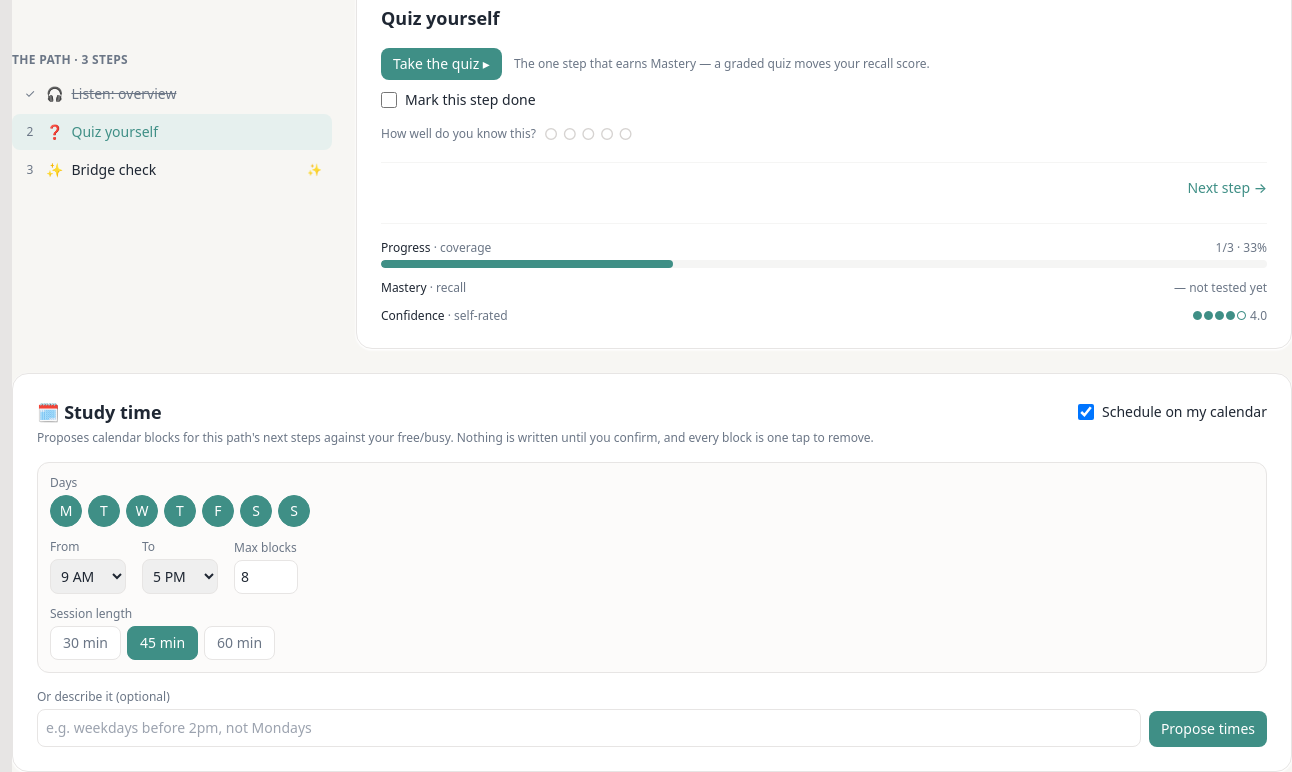
PathPlayer — Study Scheduler controls (v1) › flags a booked window and books over it on request
The image size is (1292, 772).
(page scrolled)
Click the button "Propose times": (1208, 729) x1=1149 y1=711 x2=1267 y2=747
(page scrolled)
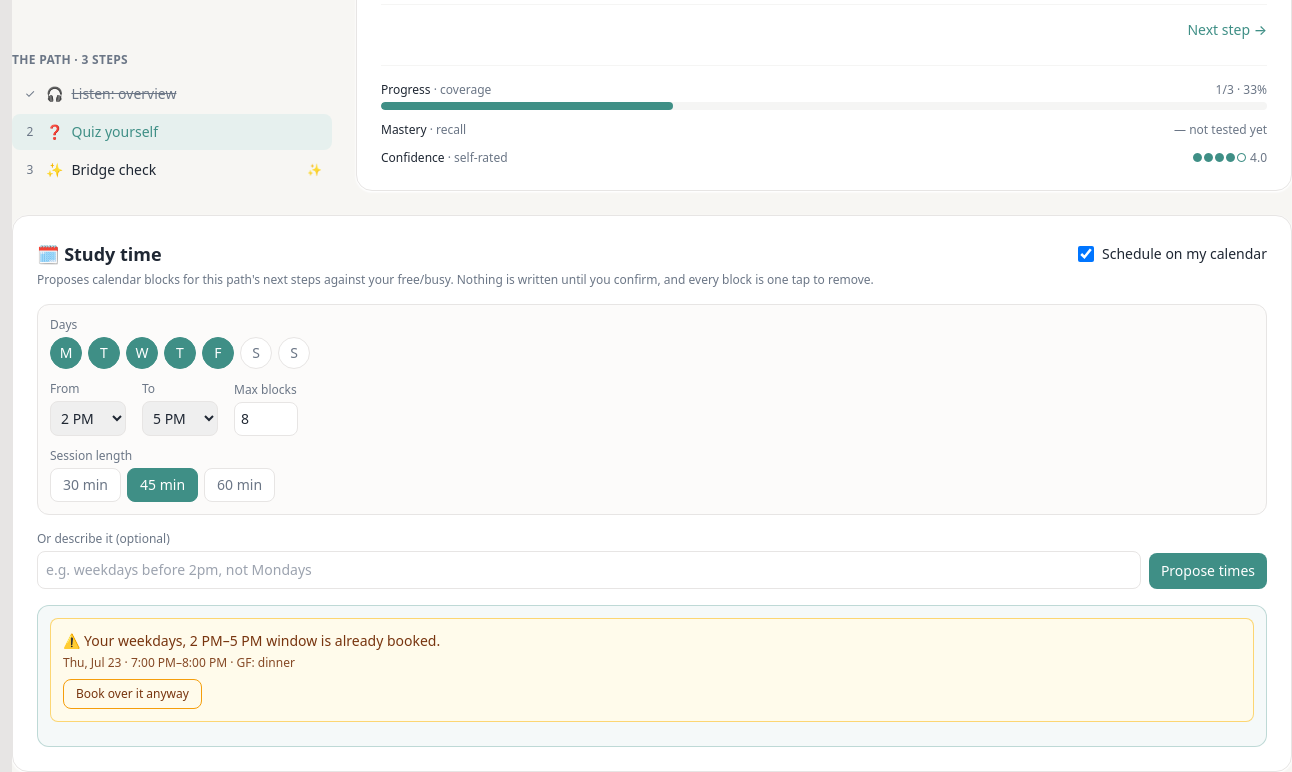
Expected: the list item "Thu, Jul 23 · 7:00 PM–8:00 PM · GF: dinner" is shown, x1=63 y1=654 x2=295 y2=671
Click the button "Book over it anyway": (132, 694) x1=63 y1=679 x2=202 y2=709
(page scrolled)
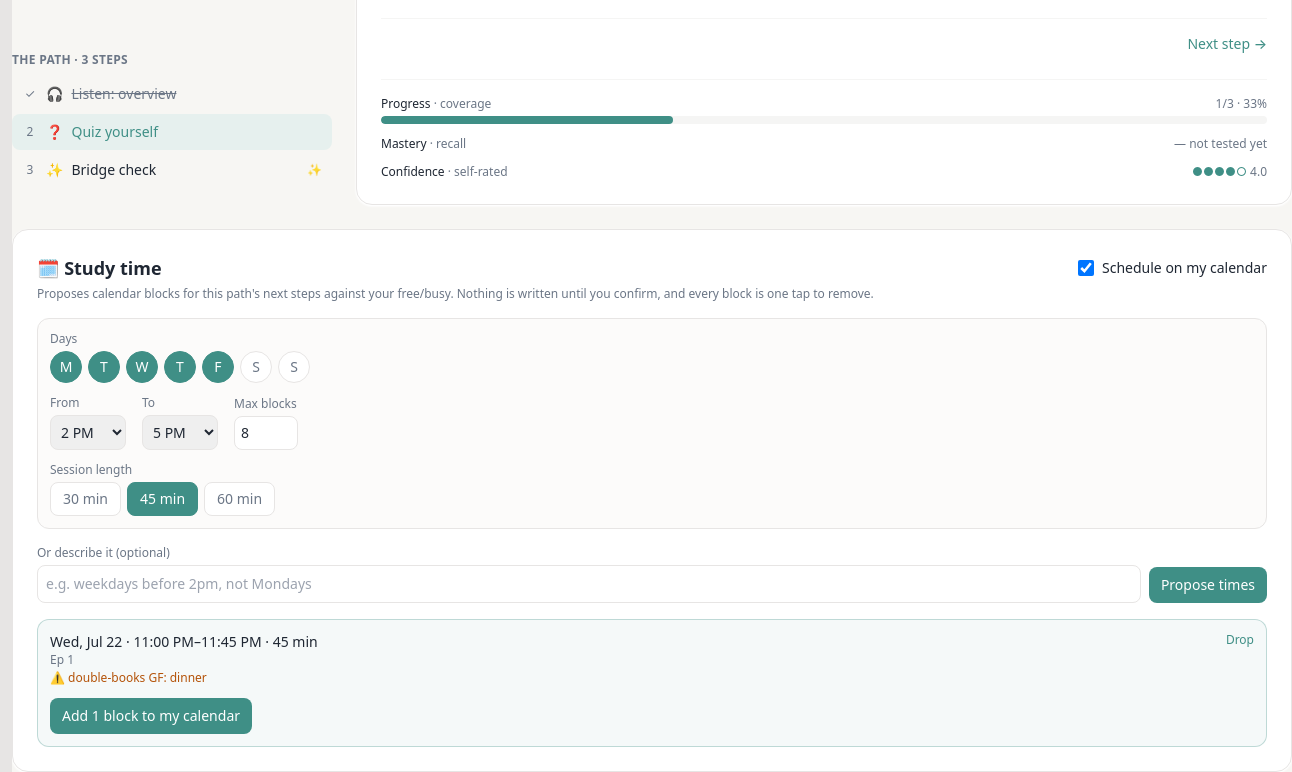
Expected: the text "⚠️ double-books GF: dinner" is shown, x1=50 y1=669 x2=207 y2=686
